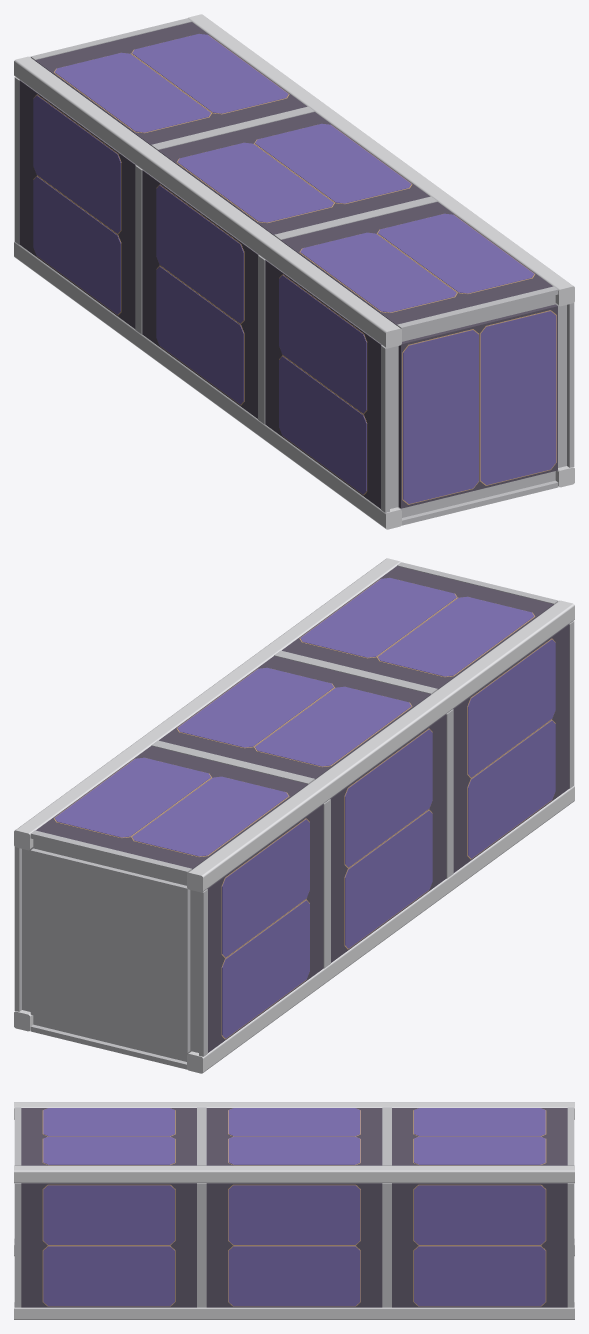
File: CDS_3U_nasa_style.glb
3 renders of one model, top to bottom at view 1: azimuth 30°, elevation 25°; view 2: azimuth 150°, elevation 25°; view 3: azimuth 270°, elevation 25°, orthographic. The views are drawn at different scales.
Parts seen in each view (by area): view 1: solar_panel_pZ_cells, solar_panel_mX_z3_cells, solar_panel_mX_z1_cells, solar_panel_mX_z2_cells, solar_panel_pY_z2_cells, solar_panel_pY_z3_cells, solar_panel_pY_z1_cells, rail_mX_pY, rail_mX_mY, rail_pX_pY, structure_body, solar_panel_mX_z1_substrate (+11 smaller); view 2: structure_endplate_mZ, solar_panel_mX_z1_cells, solar_panel_mX_z2_cells, solar_panel_mX_z3_cells, solar_panel_pY_z2_cells, solar_panel_pY_z1_cells, solar_panel_pY_z3_cells, rail_mX_pY, rail_mX_mY, rail_pX_pY, structure_body, solar_panel_mX_z3_substrate (+9 smaller); view 3: solar_panel_pX_z2_cells, solar_panel_pX_z1_cells, solar_panel_pX_z3_cells, rail_pX_pY, solar_panel_pY_z2_cells, solar_panel_pY_z1_cells, solar_panel_pY_z3_cells, rail_pX_mY, solar_panel_pX_z2_substrate, solar_panel_pX_z1_substrate, solar_panel_pX_z3_substrate, structure_band_pX (+11 smaller).
Boxes of the visible parts, bbox=[...] form: solar_panel_pZ_cells: bbox=[403, 311, 556, 503]; solar_panel_mX_z3_cells: bbox=[279, 275, 366, 494]; solar_panel_mX_z1_cells: bbox=[33, 95, 120, 314]; solar_panel_mX_z2_cells: bbox=[156, 185, 243, 404]; solar_panel_pY_z2_cells: bbox=[177, 123, 411, 222]; solar_panel_pY_z3_cells: bbox=[300, 213, 534, 312]; solar_panel_pY_z1_cells: bbox=[54, 34, 288, 132]; rail_mX_pY: bbox=[14, 56, 401, 348]; rail_mX_mY: bbox=[14, 241, 401, 529]; rail_pX_pY: bbox=[188, 14, 574, 306]; structure_body: bbox=[390, 295, 566, 517]; solar_panel_mX_z1_substrate: bbox=[19, 80, 135, 328]; structure_endplate_mZ: bbox=[30, 848, 190, 1052]; solar_panel_mX_z1_cells: bbox=[222, 819, 309, 1038]; solar_panel_mX_z2_cells: bbox=[345, 729, 432, 948]; solar_panel_mX_z3_cells: bbox=[468, 639, 555, 858]; solar_panel_pY_z2_cells: bbox=[177, 667, 411, 766]; solar_panel_pY_z1_cells: bbox=[54, 757, 288, 856]; solar_panel_pY_z3_cells: bbox=[300, 578, 534, 676]; rail_mX_pY: bbox=[187, 600, 574, 892]; rail_mX_mY: bbox=[187, 785, 574, 1073]; rail_pX_pY: bbox=[14, 558, 400, 850]; structure_body: bbox=[22, 839, 198, 1061]; solar_panel_mX_z3_substrate: bbox=[453, 624, 569, 872]; solar_panel_pX_z2_cells: bbox=[228, 1185, 360, 1306]; solar_panel_pX_z1_cells: bbox=[414, 1185, 545, 1306]; solar_panel_pX_z3_cells: bbox=[43, 1185, 174, 1306]; rail_pX_pY: bbox=[14, 1165, 574, 1183]; solar_panel_pY_z2_cells: bbox=[228, 1108, 360, 1164]; solar_panel_pY_z1_cells: bbox=[414, 1108, 545, 1164]; solar_panel_pY_z3_cells: bbox=[43, 1108, 174, 1164]; rail_pX_mY: bbox=[14, 1302, 574, 1319]; solar_panel_pX_z2_substrate: bbox=[206, 1183, 382, 1307]; solar_panel_pX_z1_substrate: bbox=[392, 1183, 567, 1307]; solar_panel_pX_z3_substrate: bbox=[21, 1183, 196, 1307]; structure_band_pX: bbox=[14, 1183, 574, 1307].
Size of the model in its own units: 0.1 by 0.1 by 0.3405.
